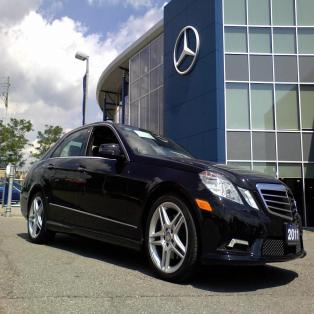Auto: (18, 118, 308, 290)
